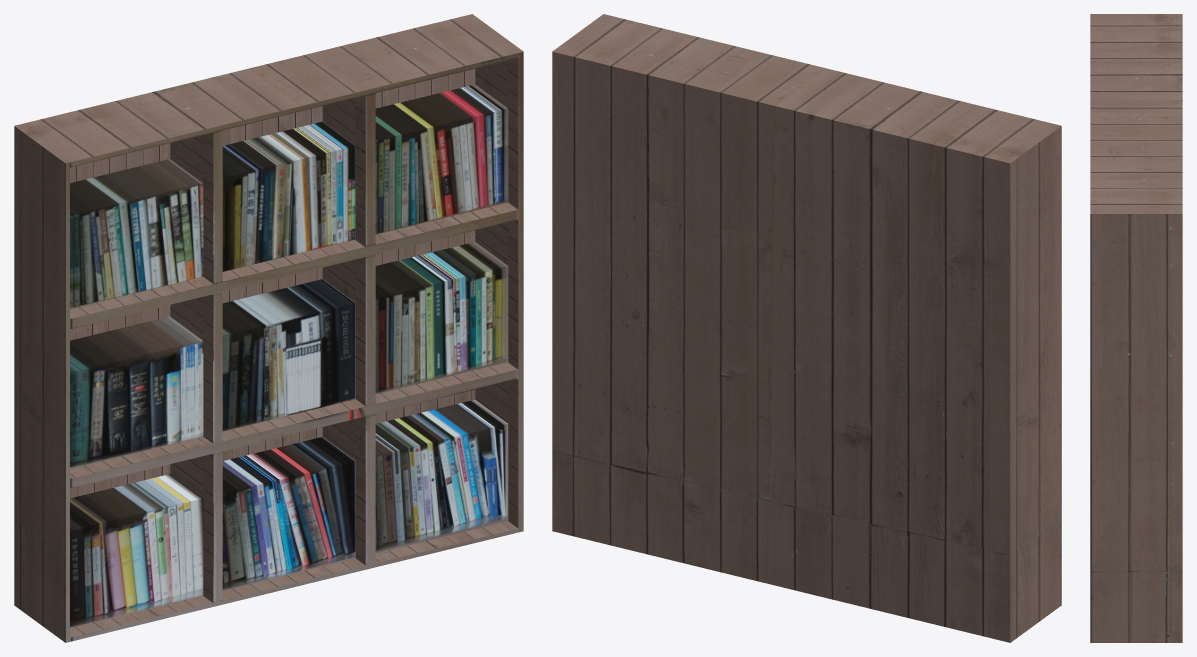
The model's file is BookShelf_fbx.fbx.
3 renders of one model, left to right at view 1: azimuth 30°, elevation 25°; view 2: azimuth 150°, elevation 25°; view 3: azimuth 270°, elevation 25°, orthographic. The views are drawn at different scales.
Visible parts, largest first — view 1: BookShelf; view 2: BookShelf; view 3: BookShelf.
Part boxes in pixels (box(x1,y1,x2,y2)): BookShelf: box(14, 14, 523, 642); BookShelf: box(552, 14, 1061, 642); BookShelf: box(1090, 14, 1182, 642).
Size of the model in its own units: 178 by 178 by 34.66.
